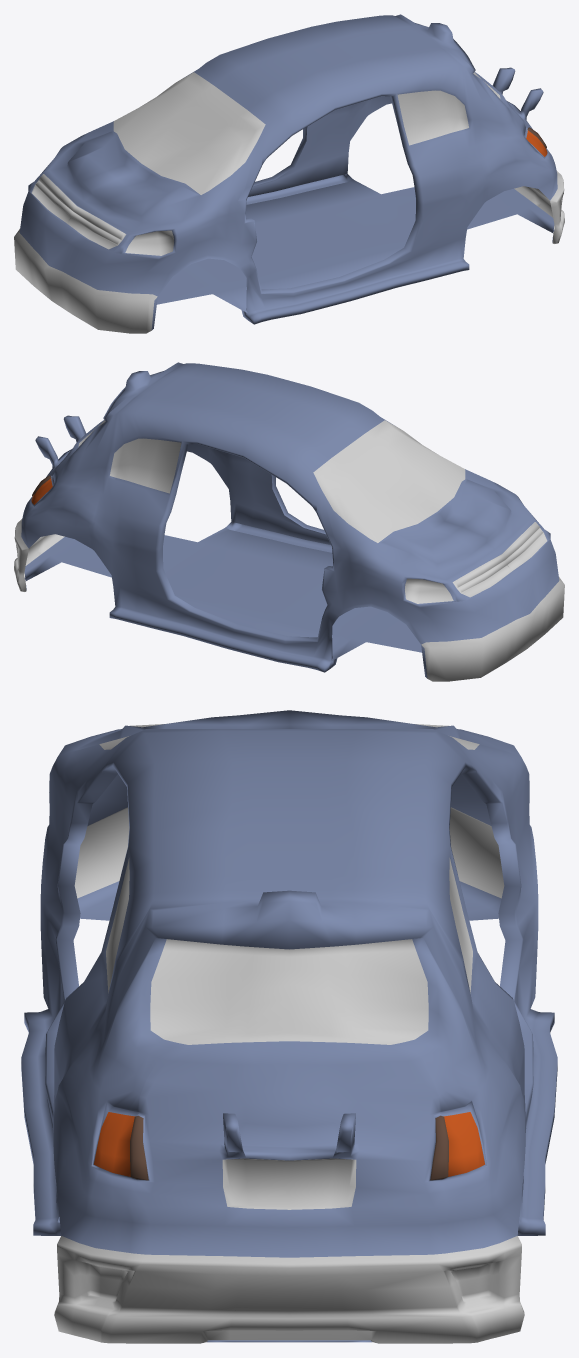
Rendered from vehicule.obj.
The picture shows the model from 3 angles, top to bottom: view 1: azimuth 30°, elevation 25°; view 2: azimuth 150°, elevation 25°; view 3: azimuth 270°, elevation 25°; orthographic projection. The views are drawn at different scales.
Visible parts, largest first — view 1: Cube; view 2: Cube; view 3: Cube.
Boxes of the visible parts, bbox=[...] form: Cube: bbox=[14, 14, 564, 333]; Cube: bbox=[14, 362, 564, 681]; Cube: bbox=[21, 710, 557, 1343].
Size of the model in its own units: 8.68 by 3.25 by 4.15.
